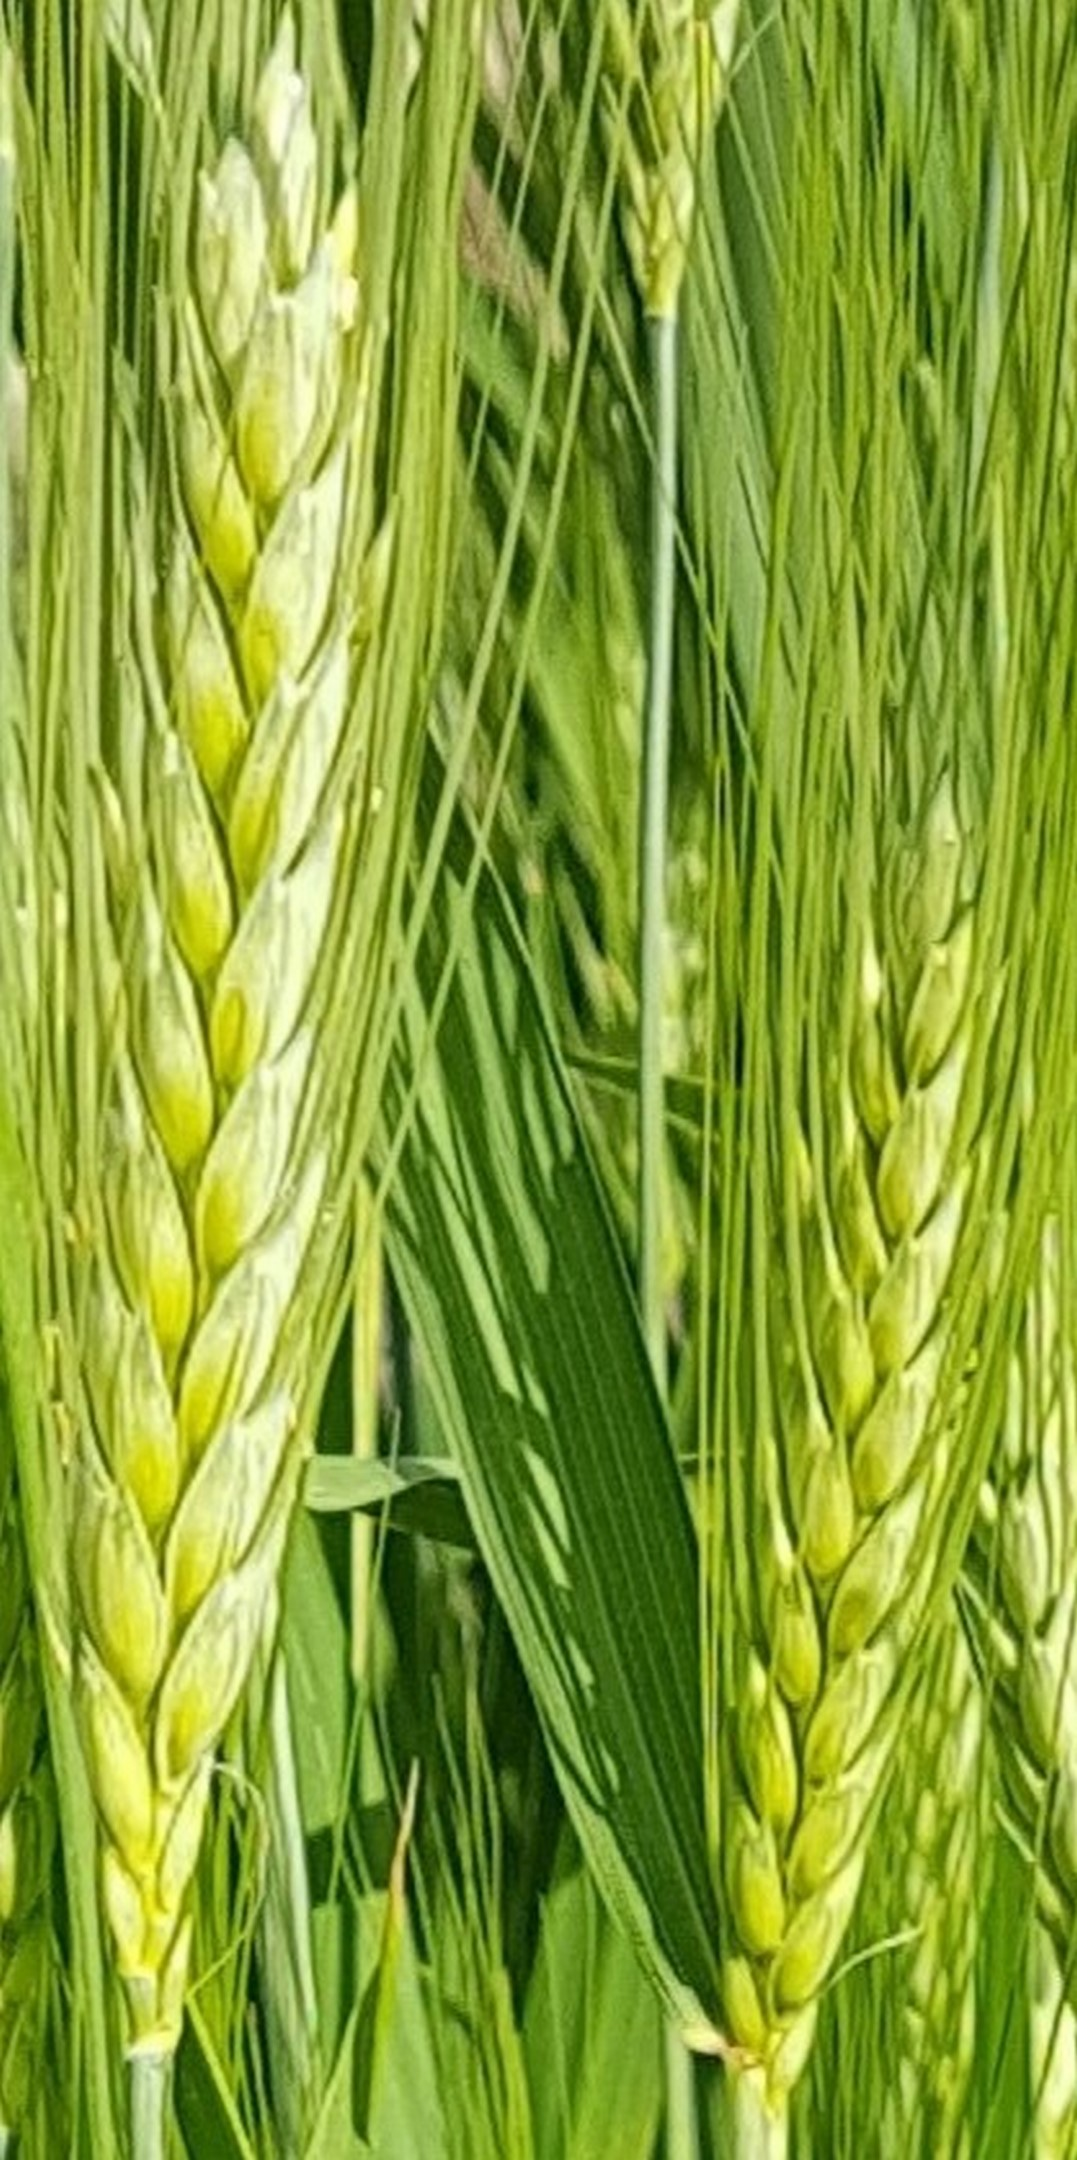Healthy Wheat: (48, 110, 381, 1980)
